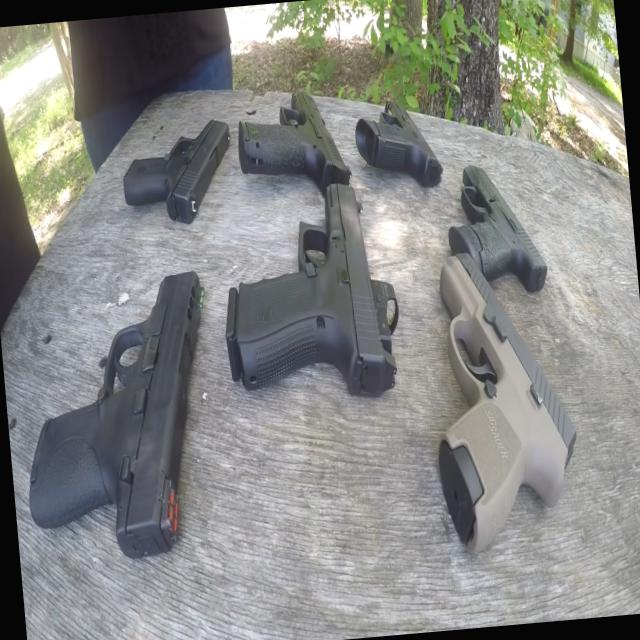handgun: (0, 255, 252, 564), (422, 241, 584, 556), (212, 164, 400, 418), (432, 130, 553, 312), (96, 109, 248, 235), (232, 68, 356, 203), (354, 85, 446, 206)
